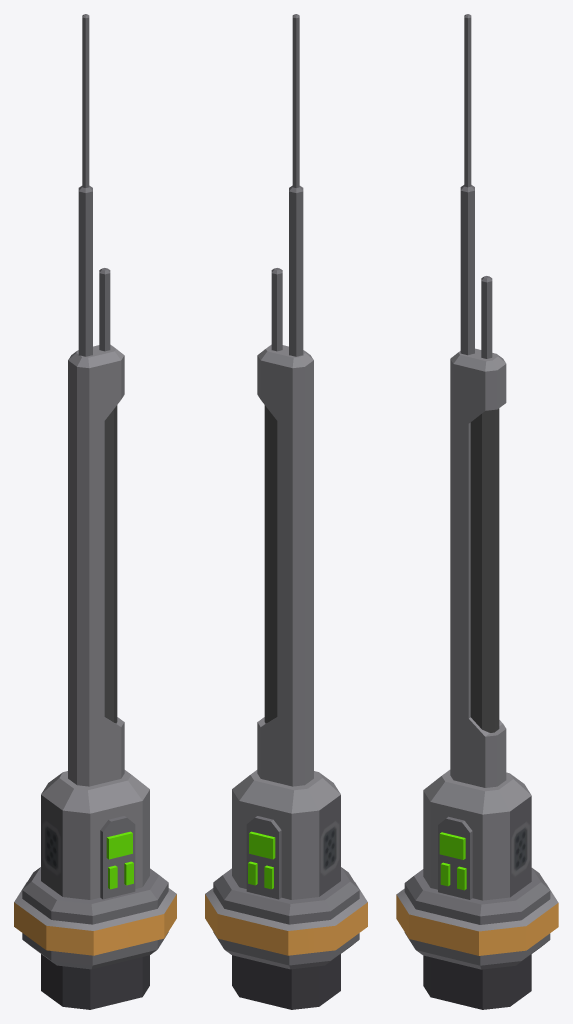
Rendered from worlds_SM_Prop_Antenna_06.gltf.
3 renders of one model, left to right at view 1: azimuth 30°, elevation 25°; view 2: azimuth 150°, elevation 25°; view 3: azimuth 330°, elevation 25°, orthographic.
Parts seen in each view (by area): view 1: SM_Prop_Antenna_06; view 2: SM_Prop_Antenna_06; view 3: SM_Prop_Antenna_06.
Boxes of the visible parts, x1,y1,x2,y2 form: SM_Prop_Antenna_06: (14,14,176,1009); SM_Prop_Antenna_06: (205,14,367,1009); SM_Prop_Antenna_06: (396,14,558,1009).
Bounding box in the file's own units: 1.06 × 7.53 × 0.9374.
1 material, 1 textured.
